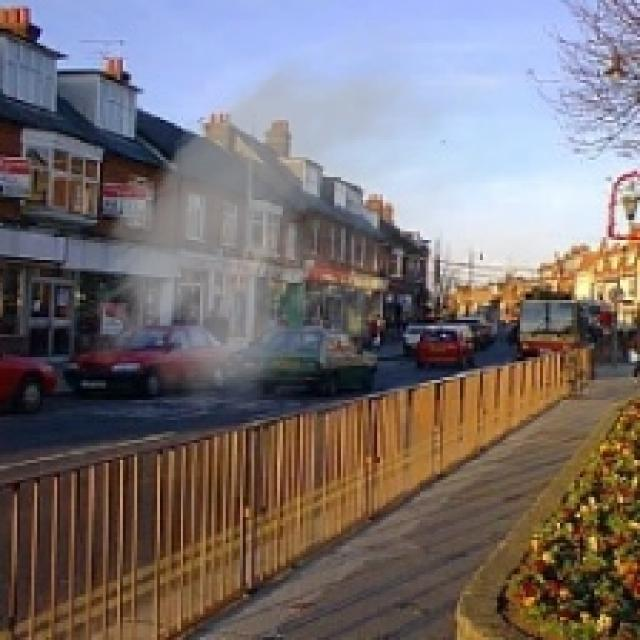smoke: (77, 12, 503, 434)
